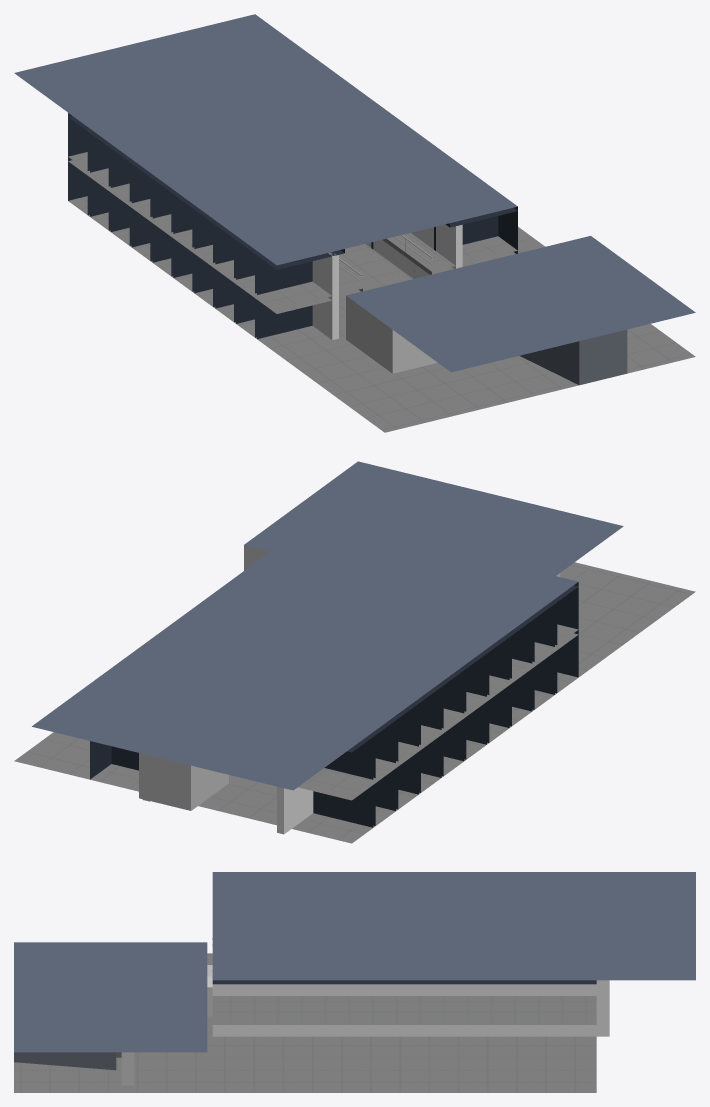
The model's file is vladikavkaz prison block.fbx.
The picture shows the model from 3 angles, top to bottom: view 1: azimuth 30°, elevation 25°; view 2: azimuth 150°, elevation 25°; view 3: azimuth 270°, elevation 25°; orthographic projection. The views are drawn at different scales.
Parts seen in each view (by area): view 1: prison block roof, hallway roof, floor, cell walls, cell floor 2, wardens office walls, elevator hallway walls, Cube, prison block walls, Cube.001, cell top.001; view 2: prison block roof, hallway roof, cell walls, floor, cell floor 2, supermax walls, prison block walls, Cube.001, cell top.001; view 3: prison block roof, floor, hallway roof, cell floor 2, Cube, cell top, wardens office walls, elevator hallway walls.
Part boxes in pixels (x1,y1,x2,y2): prison block roof: (14, 14, 517, 265); hallway roof: (346, 236, 695, 372); floor: (68, 196, 695, 432); cell walls: (87, 132, 498, 339); cell floor 2: (68, 152, 517, 313); wardens office walls: (519, 329, 627, 385); elevator hallway walls: (346, 296, 437, 373); Cube: (366, 224, 462, 278); prison block walls: (68, 113, 517, 253); Cube.001: (312, 252, 338, 339); cell top.001: (68, 116, 344, 269); prison block roof: (32, 518, 578, 790); hallway roof: (244, 461, 623, 575); cell walls: (111, 602, 557, 827); floor: (14, 562, 695, 843); cell floor 2: (298, 624, 578, 800); supermax walls: (139, 753, 228, 810); prison block walls: (90, 582, 578, 779); Cube.001: (277, 786, 313, 834); cell top.001: (347, 585, 578, 752); prison block roof: (212, 872, 695, 980); floor: (14, 953, 596, 1092); hallway roof: (14, 942, 207, 1052); cell floor 2: (212, 996, 596, 1024); Cube: (212, 980, 609, 1036); cell top: (212, 980, 596, 984); wardens office walls: (14, 1052, 116, 1070); elevator hallway walls: (121, 1052, 134, 1085).
Bounding box in the file's own units: 2580 × 700 × 5325.
